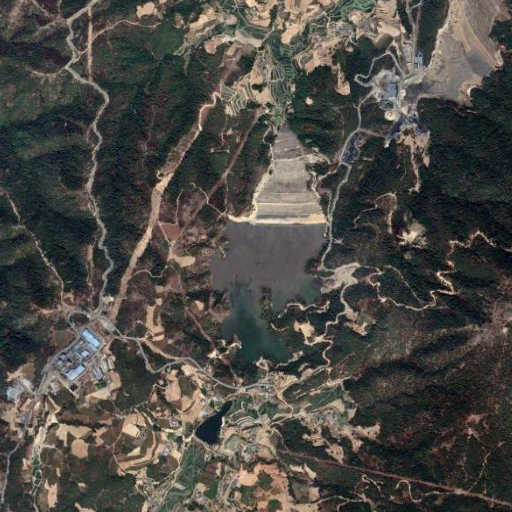tp: (199, 130, 334, 380)
